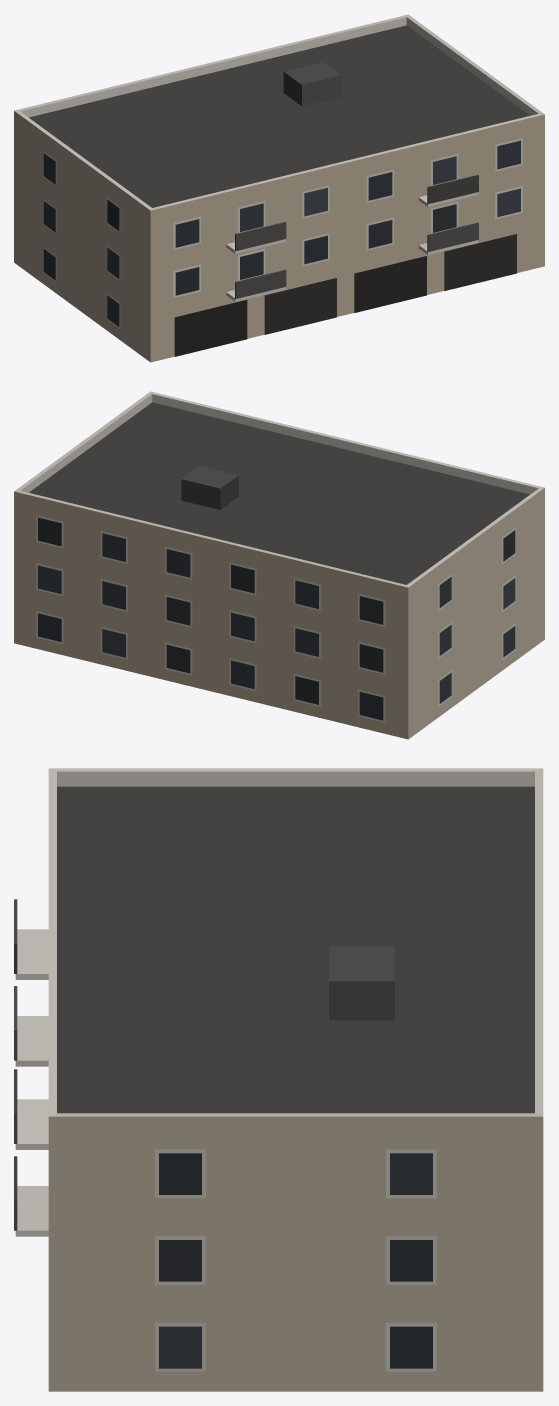
File: apartment-small.glb
3 views of the same model, one above another, from view 1: azimuth 30°, elevation 25°; view 2: azimuth 150°, elevation 25°; view 3: azimuth 270°, elevation 25° (orthographic). The views are drawn at different scales.
Visible parts, largest first — view 1: apartment-small_v0_LOD0; view 2: apartment-small_v0_LOD0; view 3: apartment-small_v0_LOD0.
Part boxes in pixels (bbox=[...]): apartment-small_v0_LOD0: bbox=[14, 14, 544, 362]; apartment-small_v0_LOD0: bbox=[14, 391, 544, 739]; apartment-small_v0_LOD0: bbox=[14, 768, 543, 1391].
Size of what is drawn, in the model's own units: 25.1 by 10 by 16.1.
